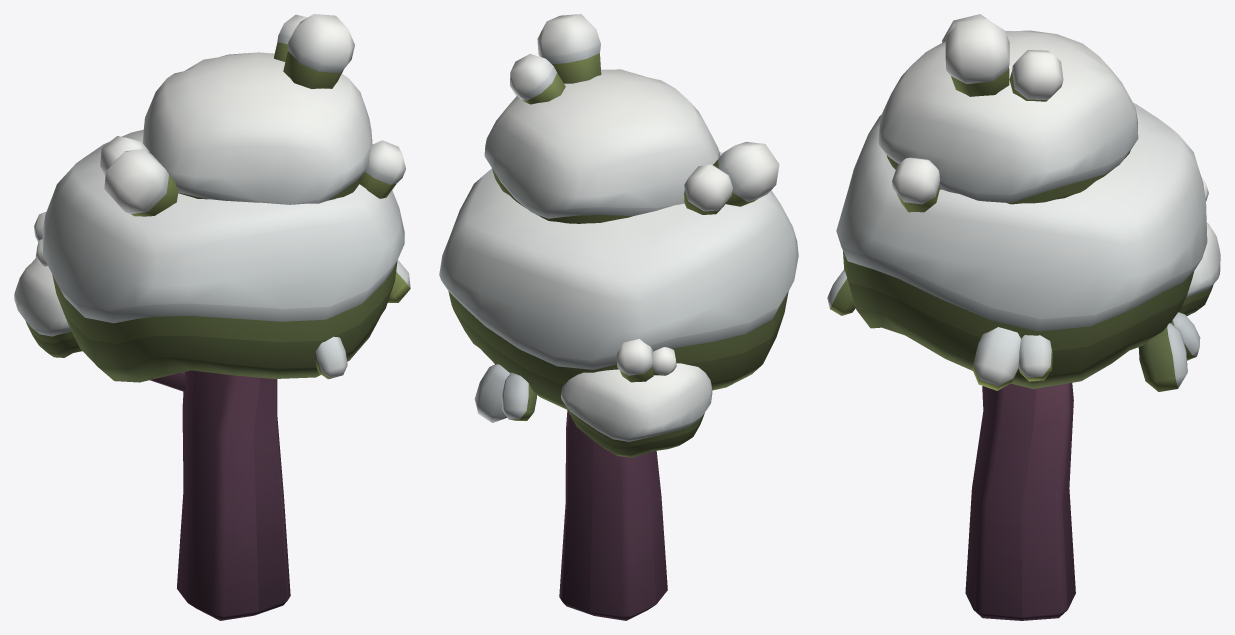
File: grassland_tree_col1_6_snow.fbx
The picture shows the model from 3 angles, left to right: view 1: azimuth 30°, elevation 25°; view 2: azimuth 150°, elevation 25°; view 3: azimuth 270°, elevation 25°; orthographic projection. The views are drawn at different scales.
Parts seen in each view (by area): view 1: grassland_tree_col1_6_snow; view 2: grassland_tree_col1_6_snow; view 3: grassland_tree_col1_6_snow.
Part boxes in pixels (<box>): grassland_tree_col1_6_snow: <box>14,14,410,620</box>; grassland_tree_col1_6_snow: <box>439,14,798,620</box>; grassland_tree_col1_6_snow: <box>827,14,1220,620</box>.
Size of the model in its own units: 466 by 797 by 461.
